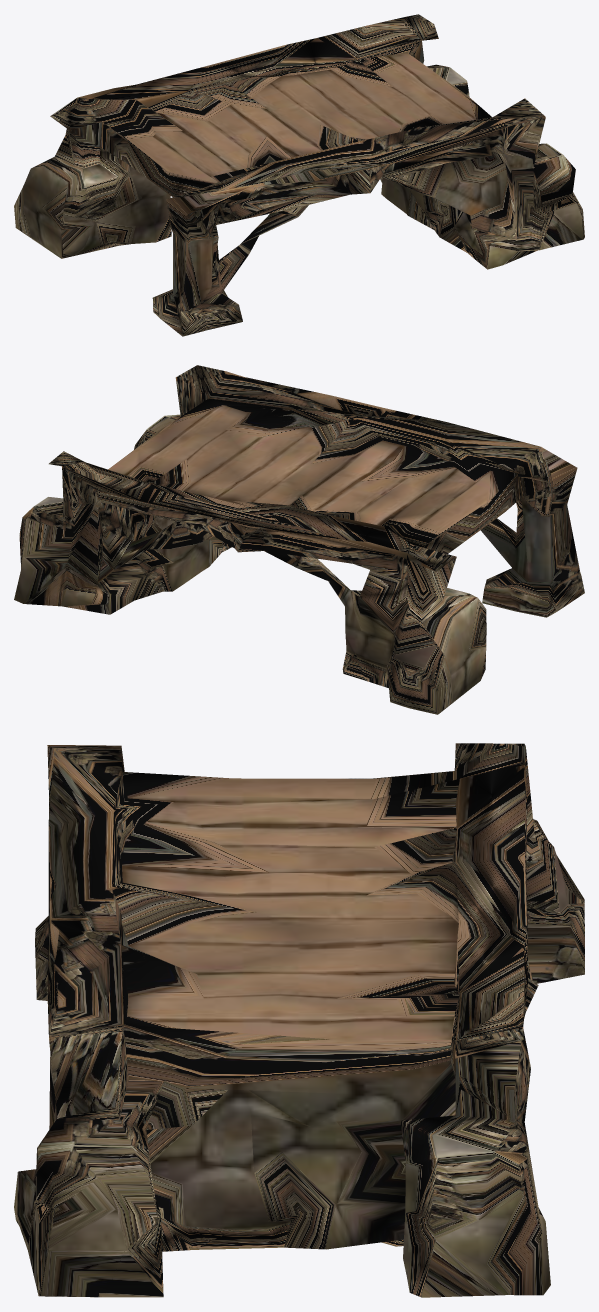
Rendered from meshy_bridge_stone_wood_deck_lod1.glb.
3 views of the same model, one above another, from view 1: azimuth 30°, elevation 25°; view 2: azimuth 150°, elevation 25°; view 3: azimuth 270°, elevation 25° (orthographic). The views are drawn at different scales.
Size of the model in its own units: 9.81 by 2.98 by 6.53.
1 material, 1 textured.
